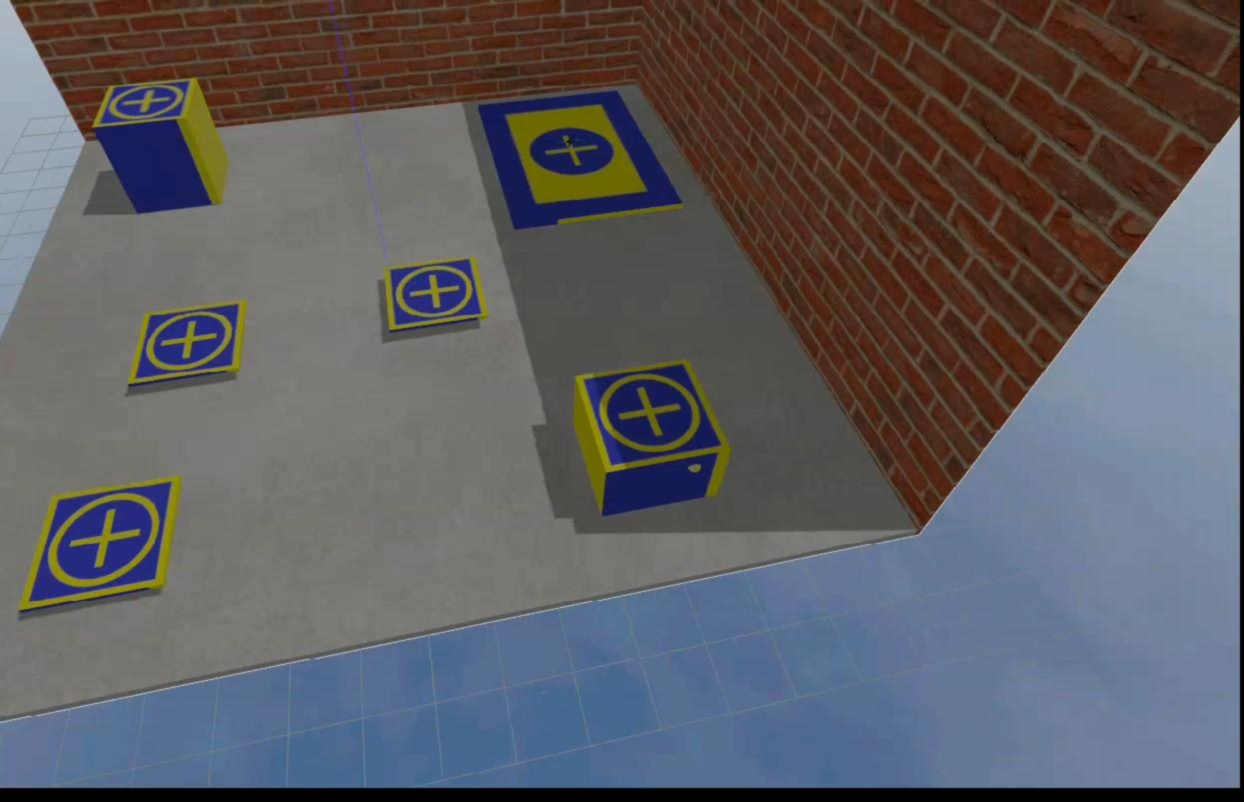large_base: (481, 91, 684, 232)
small_base: (17, 477, 180, 613), (576, 360, 734, 474), (128, 301, 247, 391), (378, 261, 487, 337), (93, 79, 199, 130)
